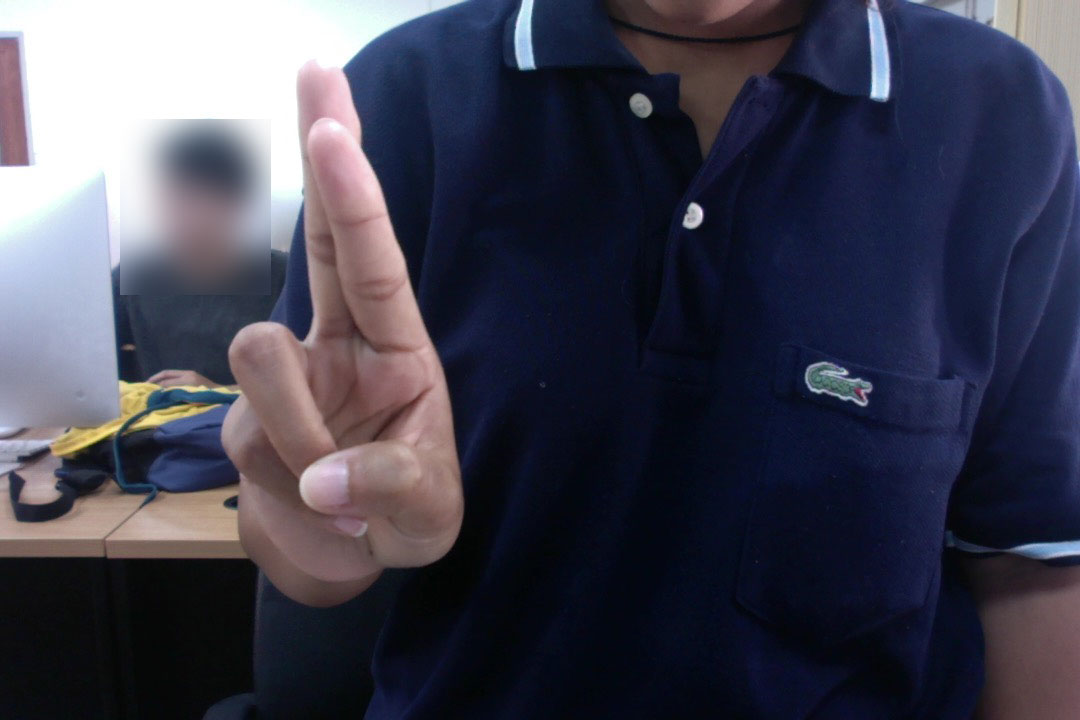rao: (202, 55, 473, 589)
